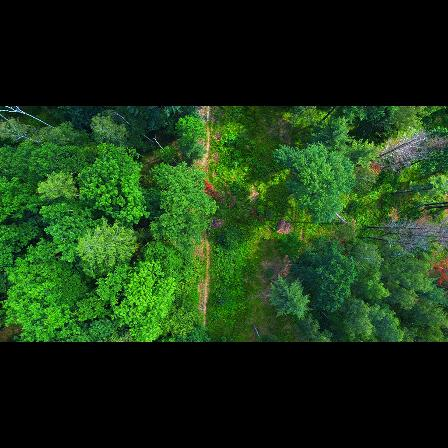Dead: (365, 219, 440, 235), (370, 139, 420, 161), (363, 233, 428, 249)
